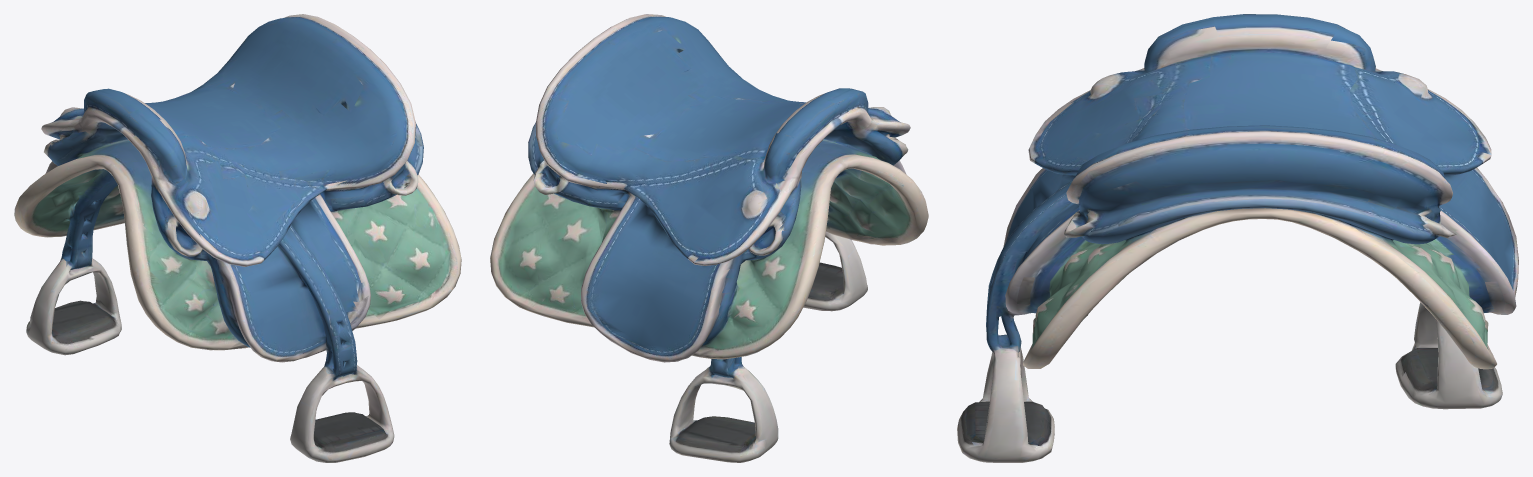
3 views of the same model, side by side, from view 1: azimuth 30°, elevation 25°; view 2: azimuth 150°, elevation 25°; view 3: azimuth 270°, elevation 25° (orthographic). The views are drawn at different scales.
Parts seen in each view (by area): view 1: saddle-blue; view 2: saddle-blue; view 3: saddle-blue.
Part boxes in pixels (x1,y1,x2,y2): saddle-blue: [14, 14, 461, 462]; saddle-blue: [490, 14, 928, 462]; saddle-blue: [957, 14, 1518, 462].
Bounding box in the file's own units: 0.3071 × 0.3047 × 0.4123.
Materials: 1 (1 with a texture image).
